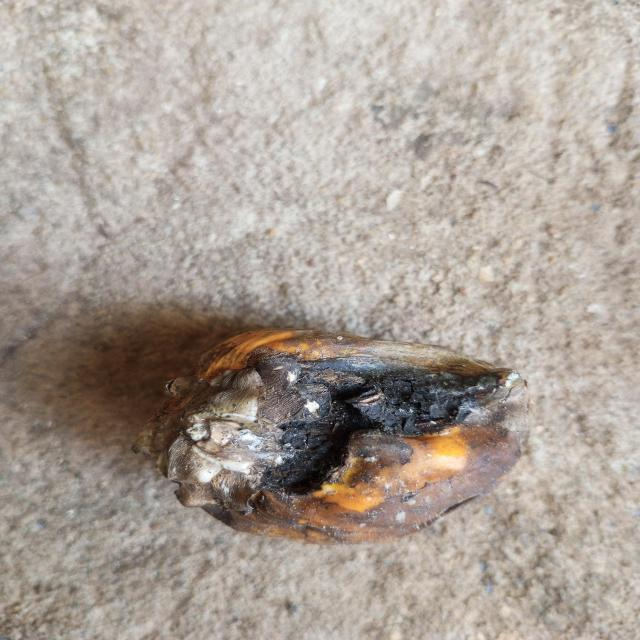damaged: (153, 332, 523, 548)
